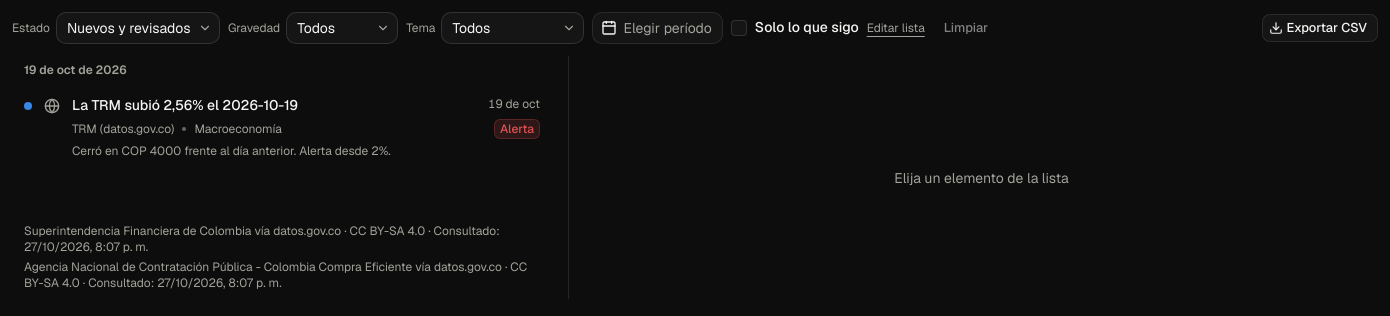
AvisosView › detail pane › clears every filter with Limpiar
The image size is (1390, 316).
Expected: the button "La TRM subió 2,56% el 2026-10-19" is shown, [72,96,298,115]
Select "Alerta" in the dropdown labelled "Gravedad": (342, 28) [286,12,398,44]
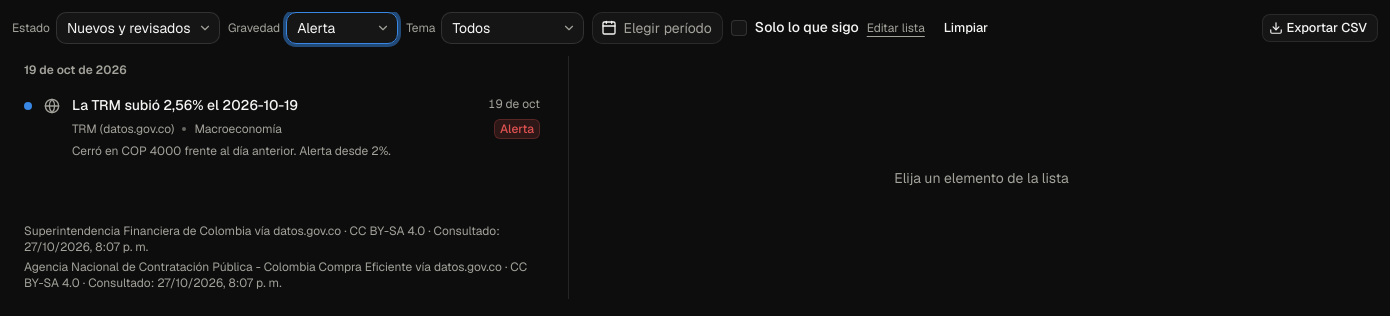
Click the button "Limpiar": (966, 28) [933,14,999,42]
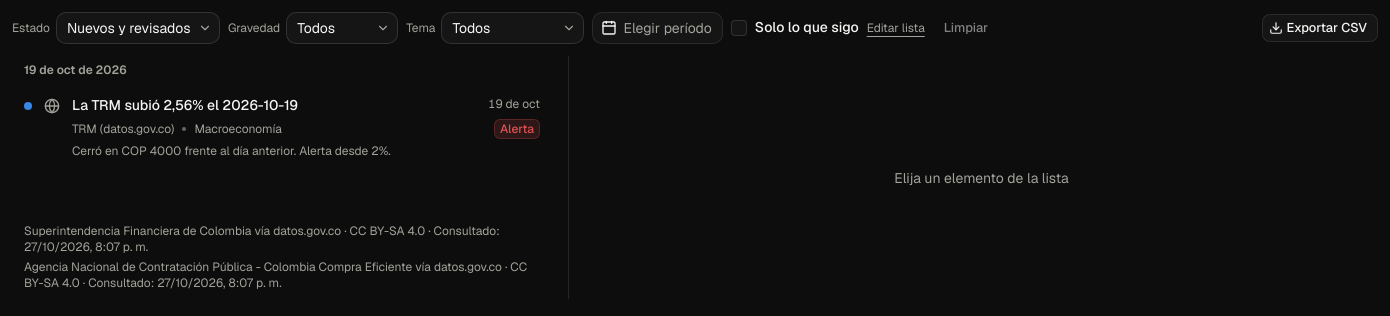
Result: the button "Limpiar" is disabled at [933,14,999,42]
